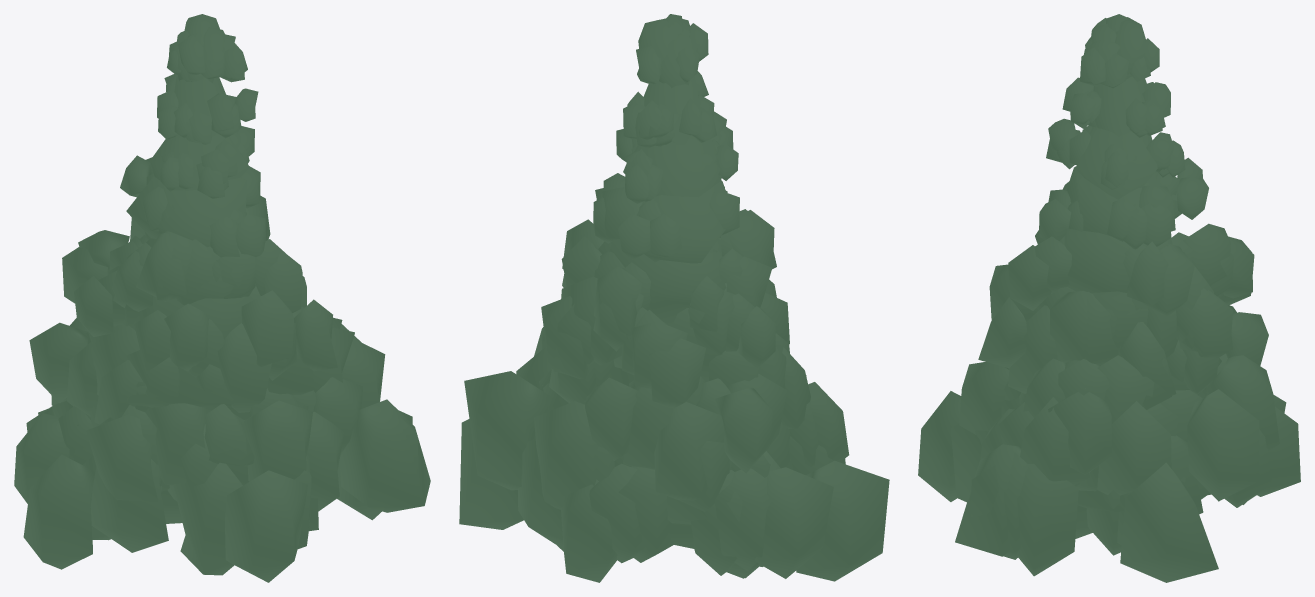
The model's file is Blender_RMJuniper_1.glb.
3 renders of one model, left to right at view 1: azimuth 30°, elevation 25°; view 2: azimuth 150°, elevation 25°; view 3: azimuth 270°, elevation 25°, orthographic. The views are drawn at different scales.
Visible parts, largest first — view 1: Blender_RMJuniper_1; view 2: Blender_RMJuniper_1; view 3: Blender_RMJuniper_1.
Part boxes in pixels (<box>): Blender_RMJuniper_1: <box>14,14,430,582</box>; Blender_RMJuniper_1: <box>459,14,889,582</box>; Blender_RMJuniper_1: <box>918,14,1300,582</box>.
Size of the model in its own units: 4.66 by 6.34 by 4.34.
